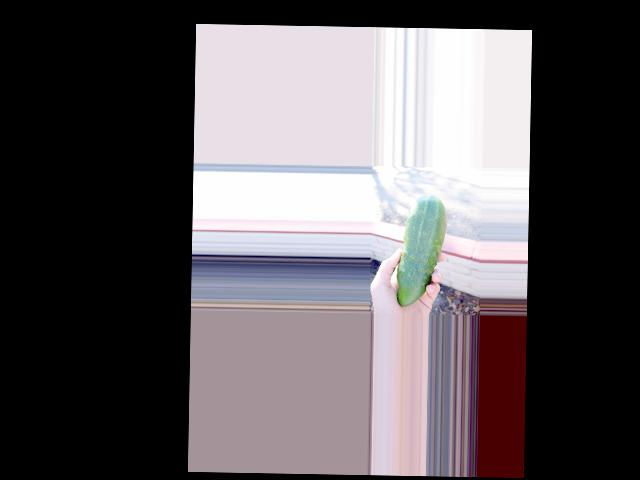cucumber: (396, 194, 447, 306)
